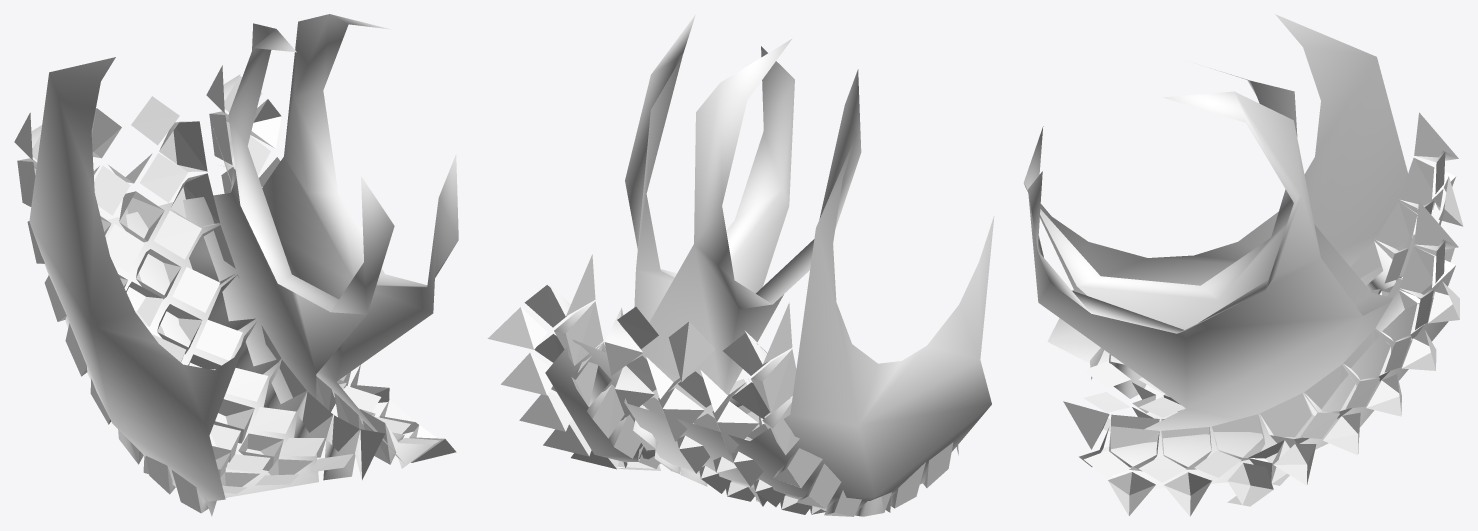
3 renders of one model, left to right at view 1: azimuth 30°, elevation 25°; view 2: azimuth 150°, elevation 25°; view 3: azimuth 270°, elevation 25°, orthographic. The views are drawn at different scales.
Bounding box in the file's own units: 0.6773 × 0.9912 × 0.9877.
1 material, 1 textured.
